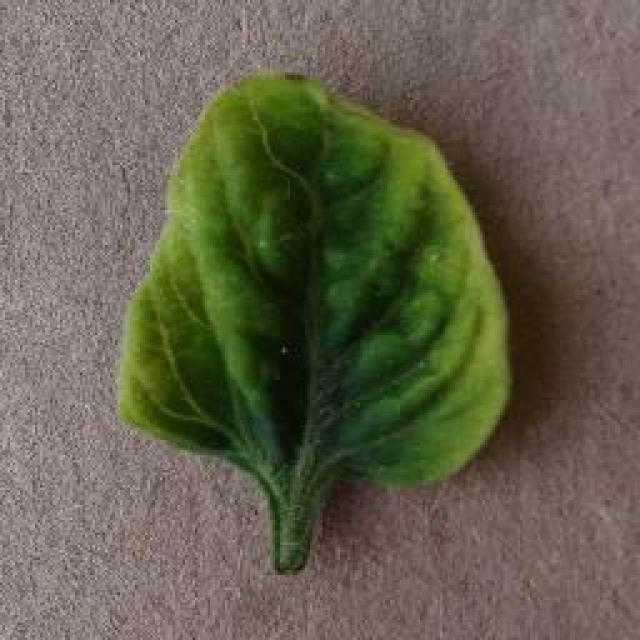Tomato yellow virus leaf: (115, 71, 510, 492)
